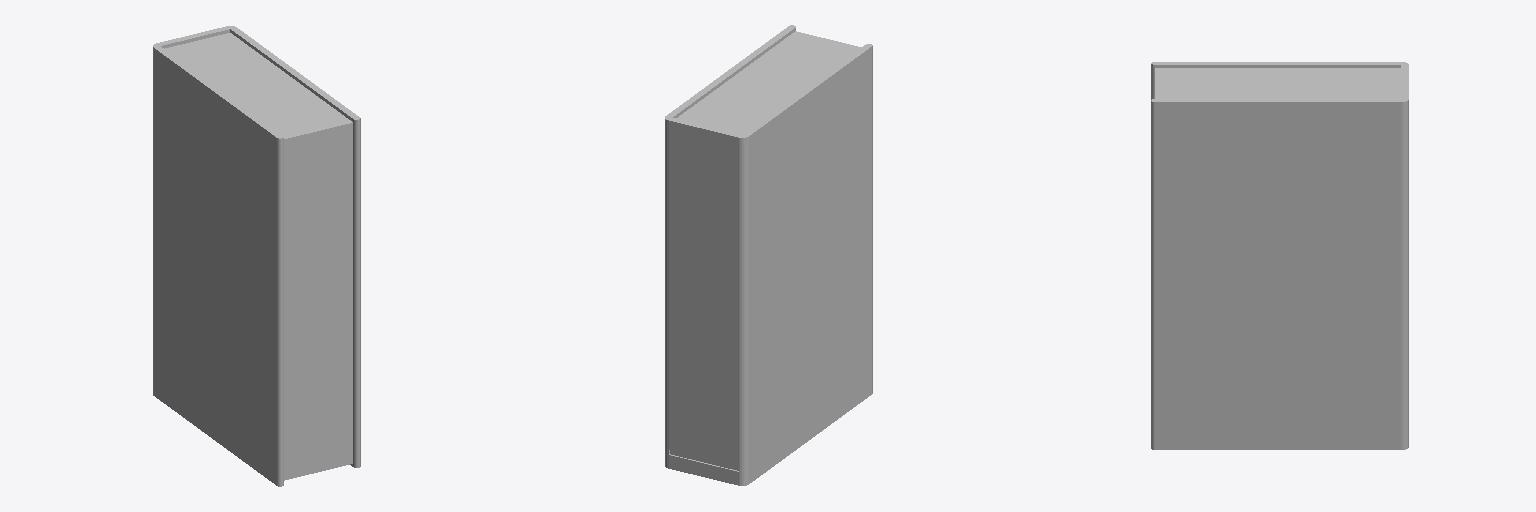
The model's file is book.obj.
3 renders of one model, left to right at view 1: azimuth 30°, elevation 25°; view 2: azimuth 150°, elevation 25°; view 3: azimuth 270°, elevation 25°, orthographic.
Visible parts, largest first — view 1: cover_last, pages, cover_first, back; view 2: cover_last, back, pages, cover_first; view 3: cover_first, pages, back, cover_last.
Part boxes in pixels (left/top/right/bottom): cover_last: left=154, top=46, right=283, bottom=486; pages: left=165, top=33, right=352, bottom=480; cover_first: left=230, top=28, right=360, bottom=467; back: left=153, top=26, right=236, bottom=395; cover_last: left=743, top=44, right=872, bottom=483; back: left=665, top=116, right=748, bottom=485; pages: left=676, top=31, right=861, bottom=134; cover_first: left=667, top=25, right=795, bottom=117; cover_first: left=1151, top=99, right=1400, bottom=449; pages: left=1155, top=68, right=1400, bottom=98; back: left=1401, top=62, right=1408, bottom=449; cover_last: left=1151, top=62, right=1400, bottom=99.
Bounding box in the file's own units: 5 × 20 × 13.4.